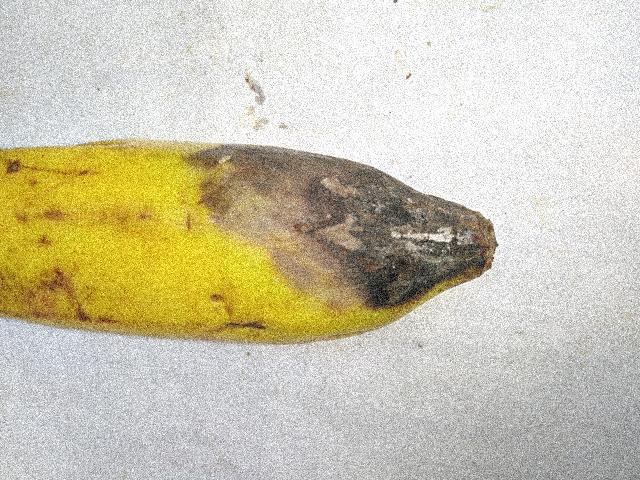rotten: (175, 110, 526, 327)
